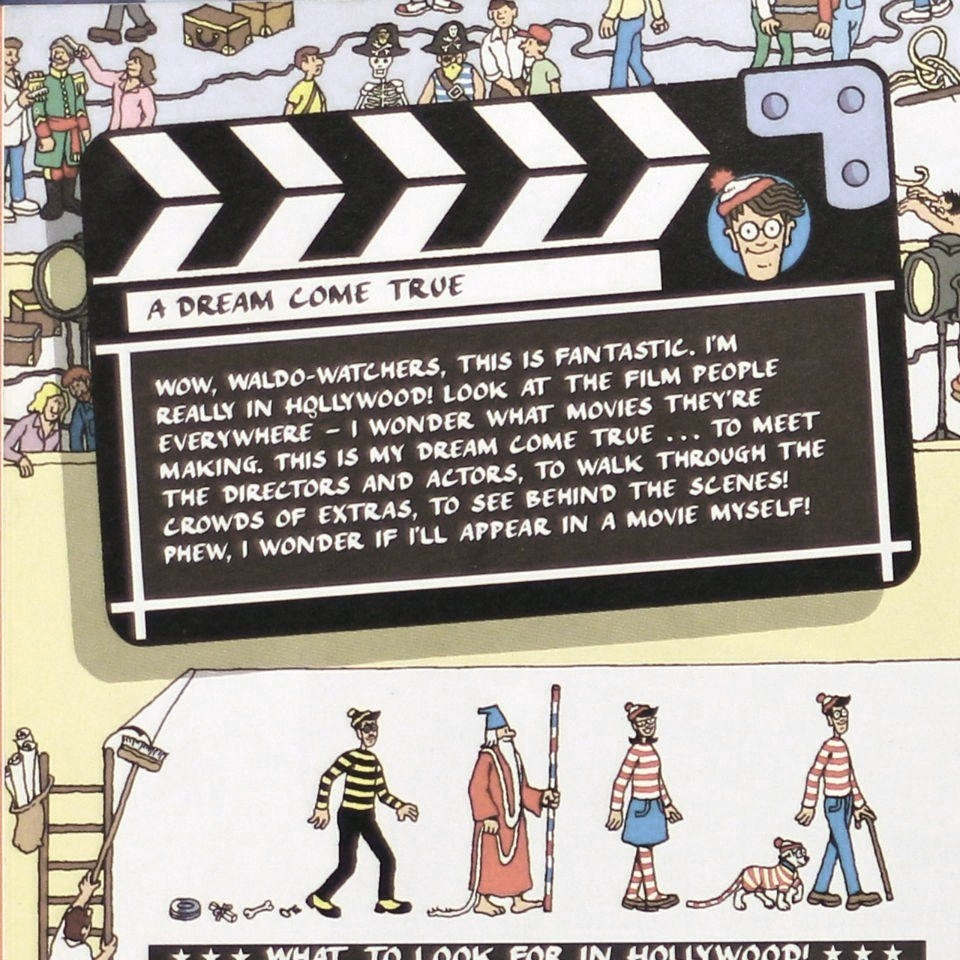waldo: (796, 693, 894, 909), (709, 169, 807, 284)
